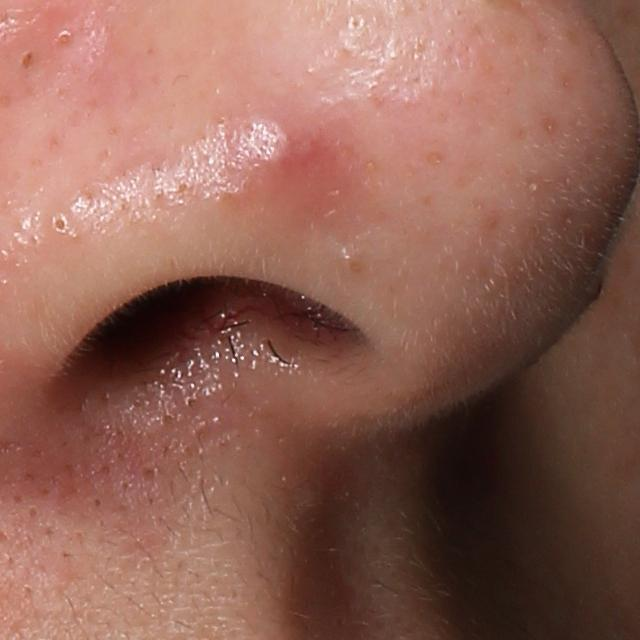comedo: (48, 19, 79, 54), (12, 42, 41, 77), (44, 207, 74, 240), (341, 11, 373, 35)
